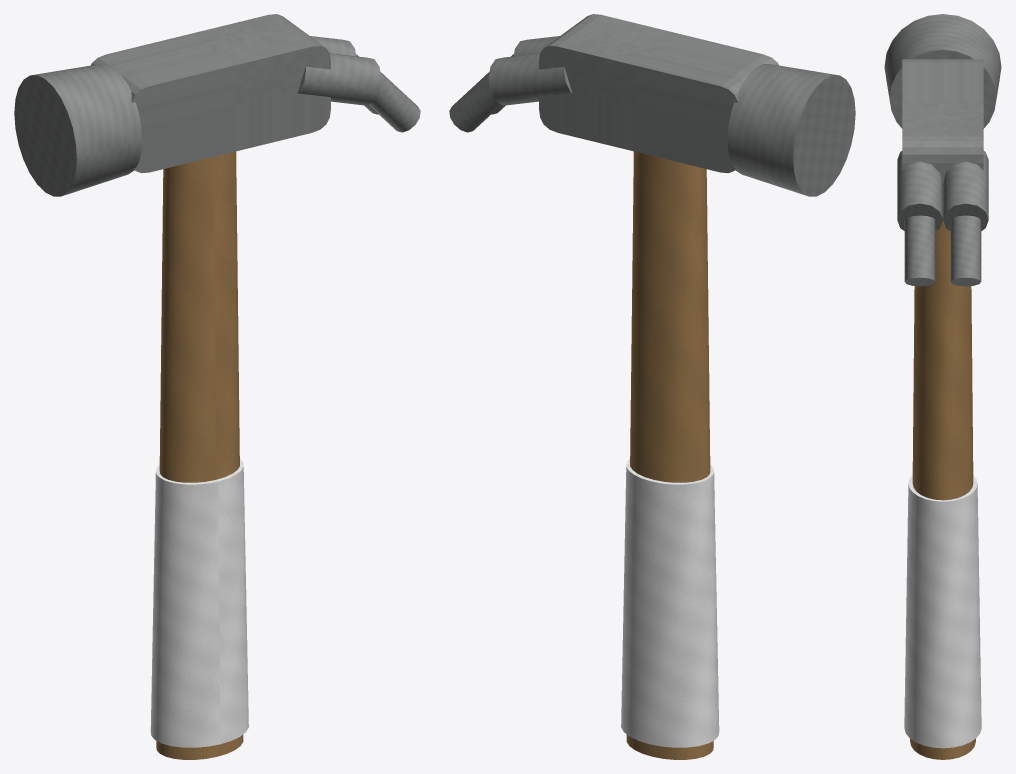
The model's file is Claw_Hammer.glb.
The picture shows the model from 3 angles, left to right: view 1: azimuth 30°, elevation 25°; view 2: azimuth 150°, elevation 25°; view 3: azimuth 270°, elevation 25°; orthographic projection. The views are drawn at different scales.
Parts seen in each view (by area): view 1: Handle, Grip, Hammer_Head, Strike_Face, Claw_Hammer; view 2: Handle, Grip, Hammer_Head, Strike_Face, Claw_Hammer; view 3: Grip, Handle, Claw_Hammer, Hammer_Head, Strike_Face.
Boxes of the visible parts, left/top/right/bottom form: Handle: left=156, top=151, right=243, bottom=759; Grip: left=150, top=459, right=248, bottom=747; Hammer_Head: left=91, top=14, right=330, bottom=173; Strike_Face: left=14, top=64, right=142, bottom=196; Claw_Hammer: left=297, top=36, right=420, bottom=132; Handle: left=626, top=151, right=713, bottom=759; Grip: left=621, top=459, right=719, bottom=747; Hammer_Head: left=539, top=14, right=778, bottom=173; Strike_Face: left=727, top=64, right=855, bottom=196; Claw_Hammer: left=449, top=36, right=572, bottom=132; Grip: left=904, top=475, right=981, bottom=748; Handle: left=910, top=220, right=975, bottom=759; Claw_Hammer: left=897, top=151, right=988, bottom=286; Hammer_Head: left=902, top=59, right=983, bottom=182; Strike_Face: left=884, top=14, right=1001, bottom=128.
Bounding box in the file's own units: 0.153 × 0.285 × 0.046.
3 materials, 3 textured.
